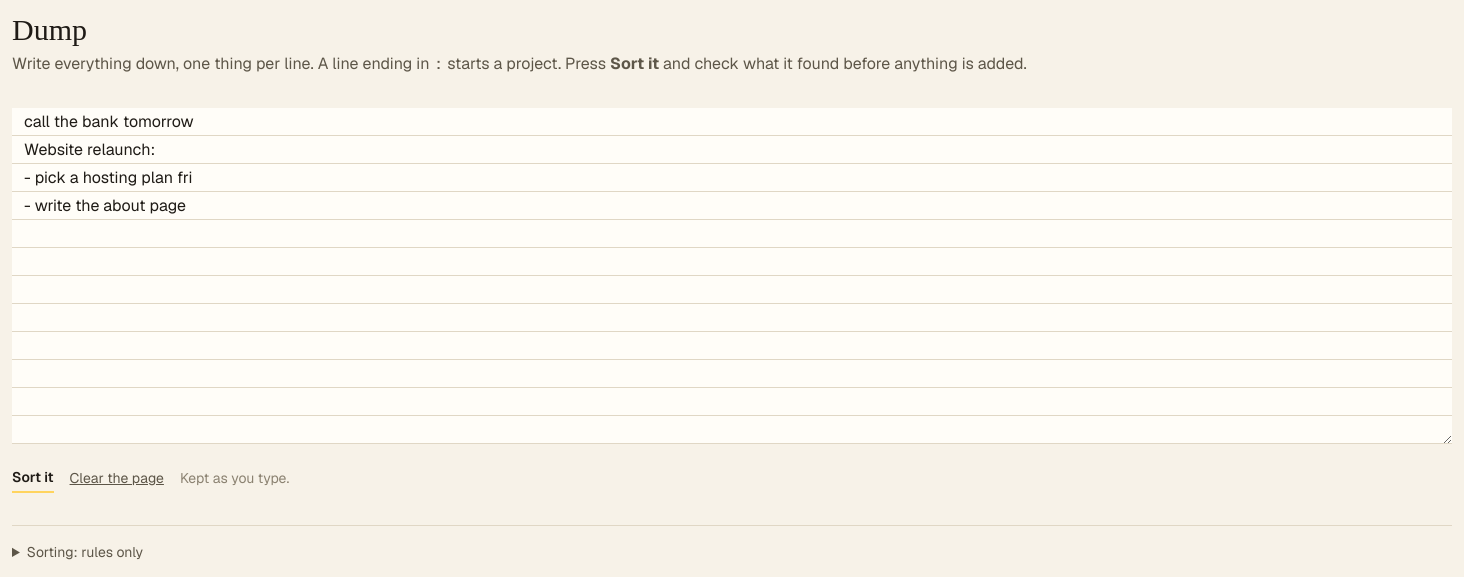
Test: Dump screen › goes back to the page with the writing still on it
Step 1. Click the button "Sort it" → (33, 478), box [12, 463, 54, 493]
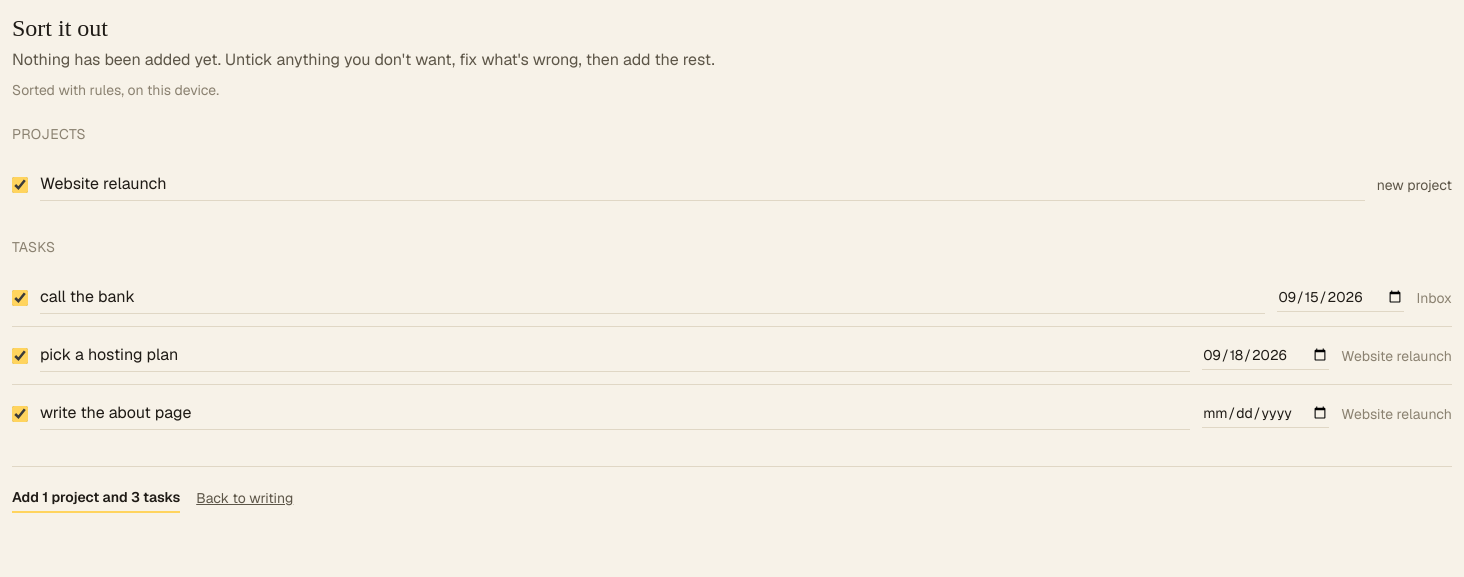
Now the heading "Sort it out" is shown, box [12, 15, 108, 41]
Step 2. Click the button "Back to writing" → (245, 498), box [196, 484, 293, 512]
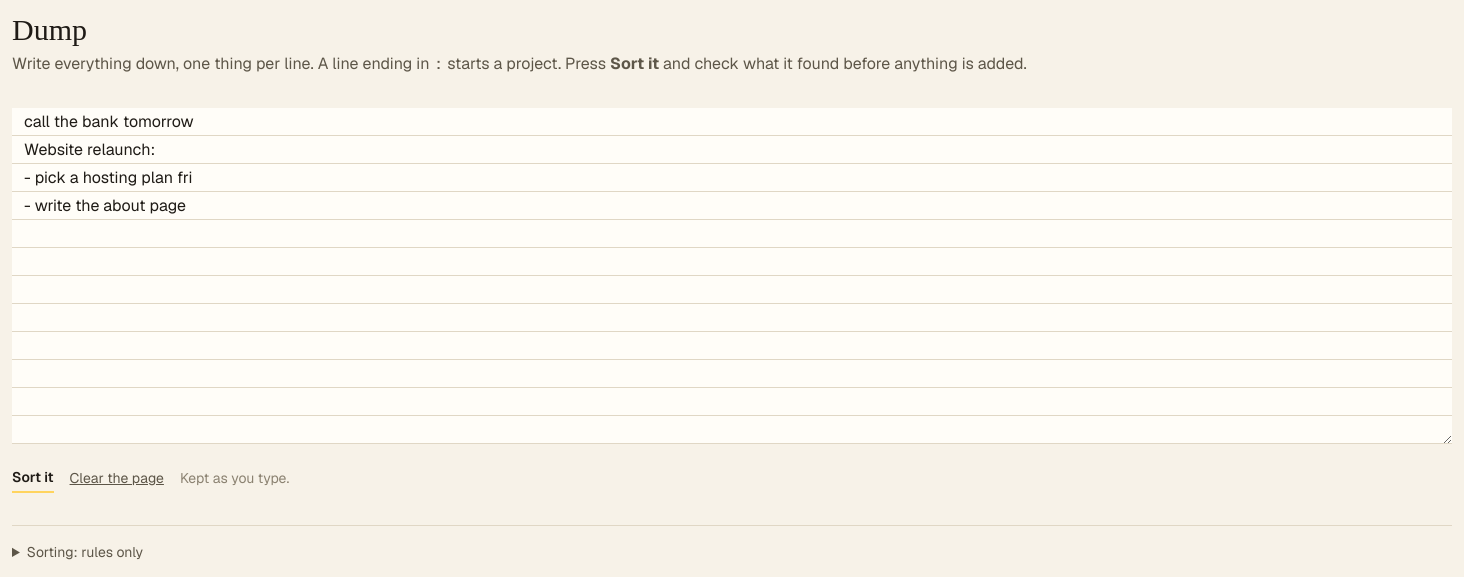
Now the text box named "Your dump" holds "call the bank tomorrow Website relaunch: - pick a hosting plan fri - write the about page", box [12, 108, 1452, 444]
